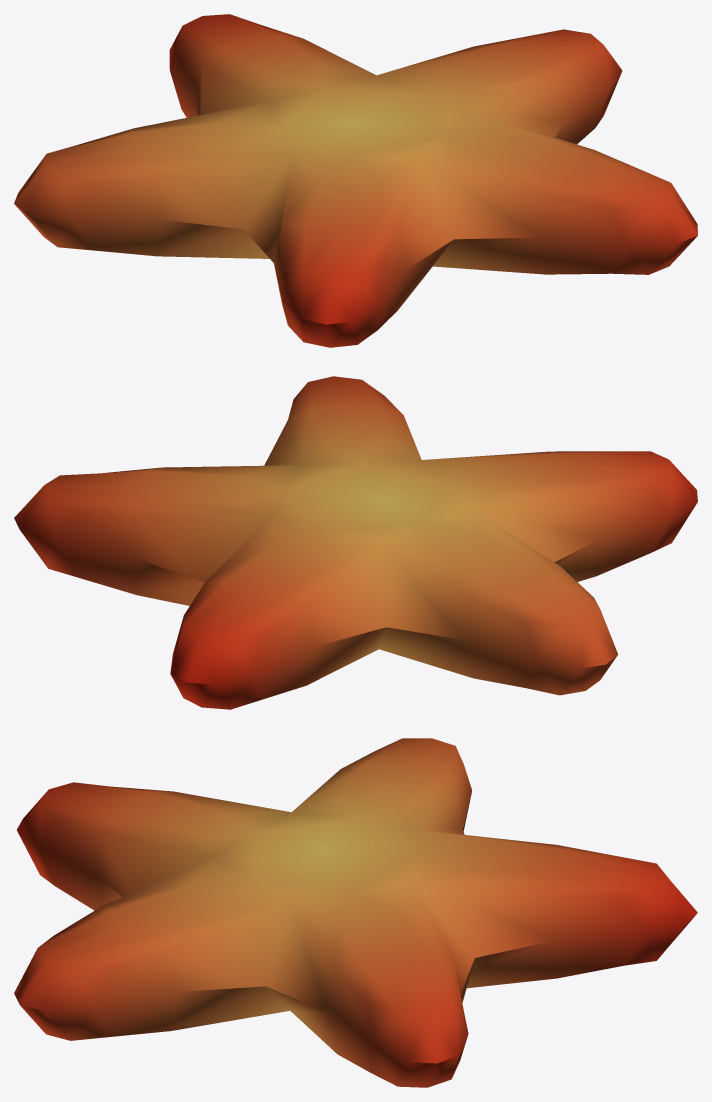
The model's file is Starfish.fbx.
The picture shows the model from 3 angles, top to bottom: view 1: azimuth 30°, elevation 25°; view 2: azimuth 150°, elevation 25°; view 3: azimuth 270°, elevation 25°; orthographic projection. The views are drawn at different scales.
Visible parts, largest first — view 1: pCylinder6; view 2: pCylinder6; view 3: pCylinder6.
Part boxes in pixels (left/top/right/bottom): pCylinder6: left=14, top=14, right=697, bottom=347; pCylinder6: left=14, top=376, right=697, bottom=709; pCylinder6: left=14, top=738, right=697, bottom=1087.
Size of the model in its own units: 11.28 by 1.95 by 10.84.
